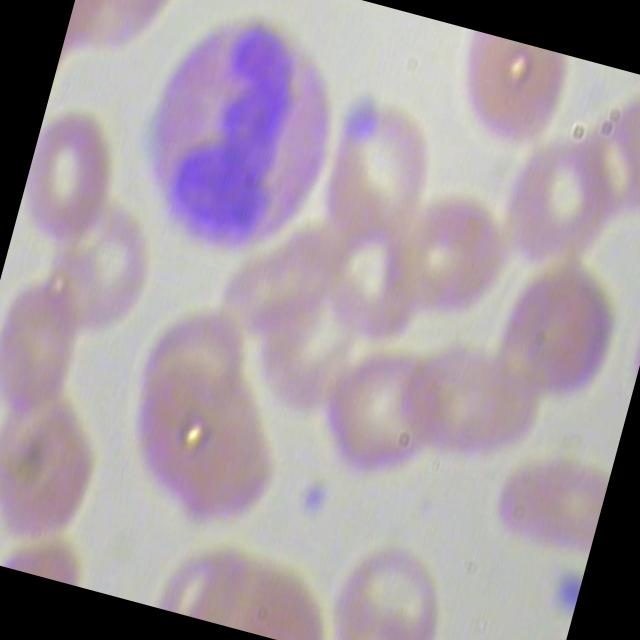Platelets: (288, 474, 336, 531)
RBC: (298, 337, 449, 494), (479, 123, 630, 280), (303, 92, 449, 254), (0, 374, 118, 557), (12, 101, 138, 260), (468, 438, 612, 576), (440, 29, 580, 162), (318, 527, 469, 640), (0, 280, 89, 428)
WBC: (103, 0, 367, 284)
